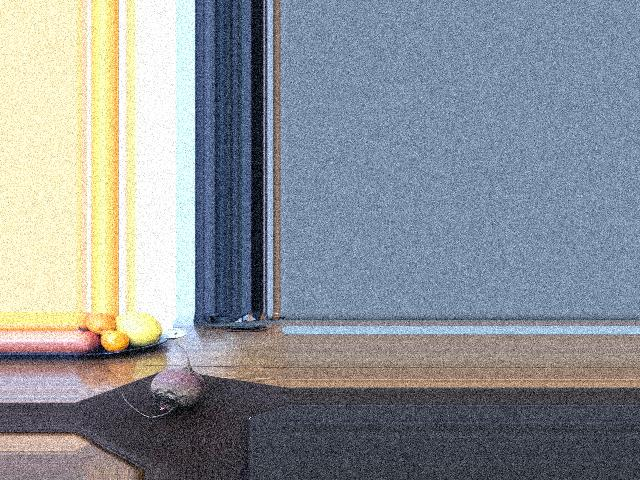beet: (122, 344, 205, 418)
